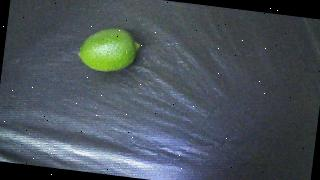LOCAL: (76, 24, 141, 75)
